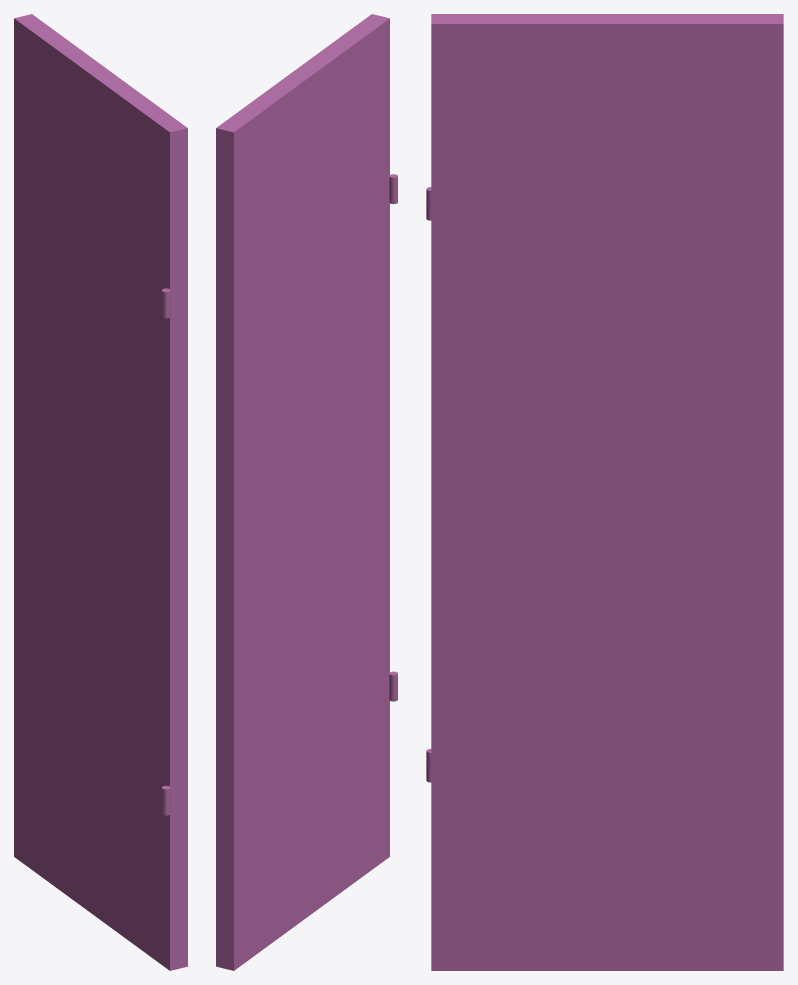
File: ModuleDoor_Sci_door_main2.FBX
3 renders of one model, left to right at view 1: azimuth 30°, elevation 25°; view 2: azimuth 150°, elevation 25°; view 3: azimuth 270°, elevation 25°, orthographic. The views are drawn at different scales.
Parts seen in each view (by area): view 1: Sci_door_main003; view 2: Sci_door_main003; view 3: Sci_door_main003.
Boxes of the visible parts, box(x1,y1,x2,y2) form: Sci_door_main003: box(14, 14, 187, 970); Sci_door_main003: box(216, 14, 397, 970); Sci_door_main003: box(426, 14, 783, 970).
Bounding box in the file's own units: 2.32 × 73.19 × 25.02.
